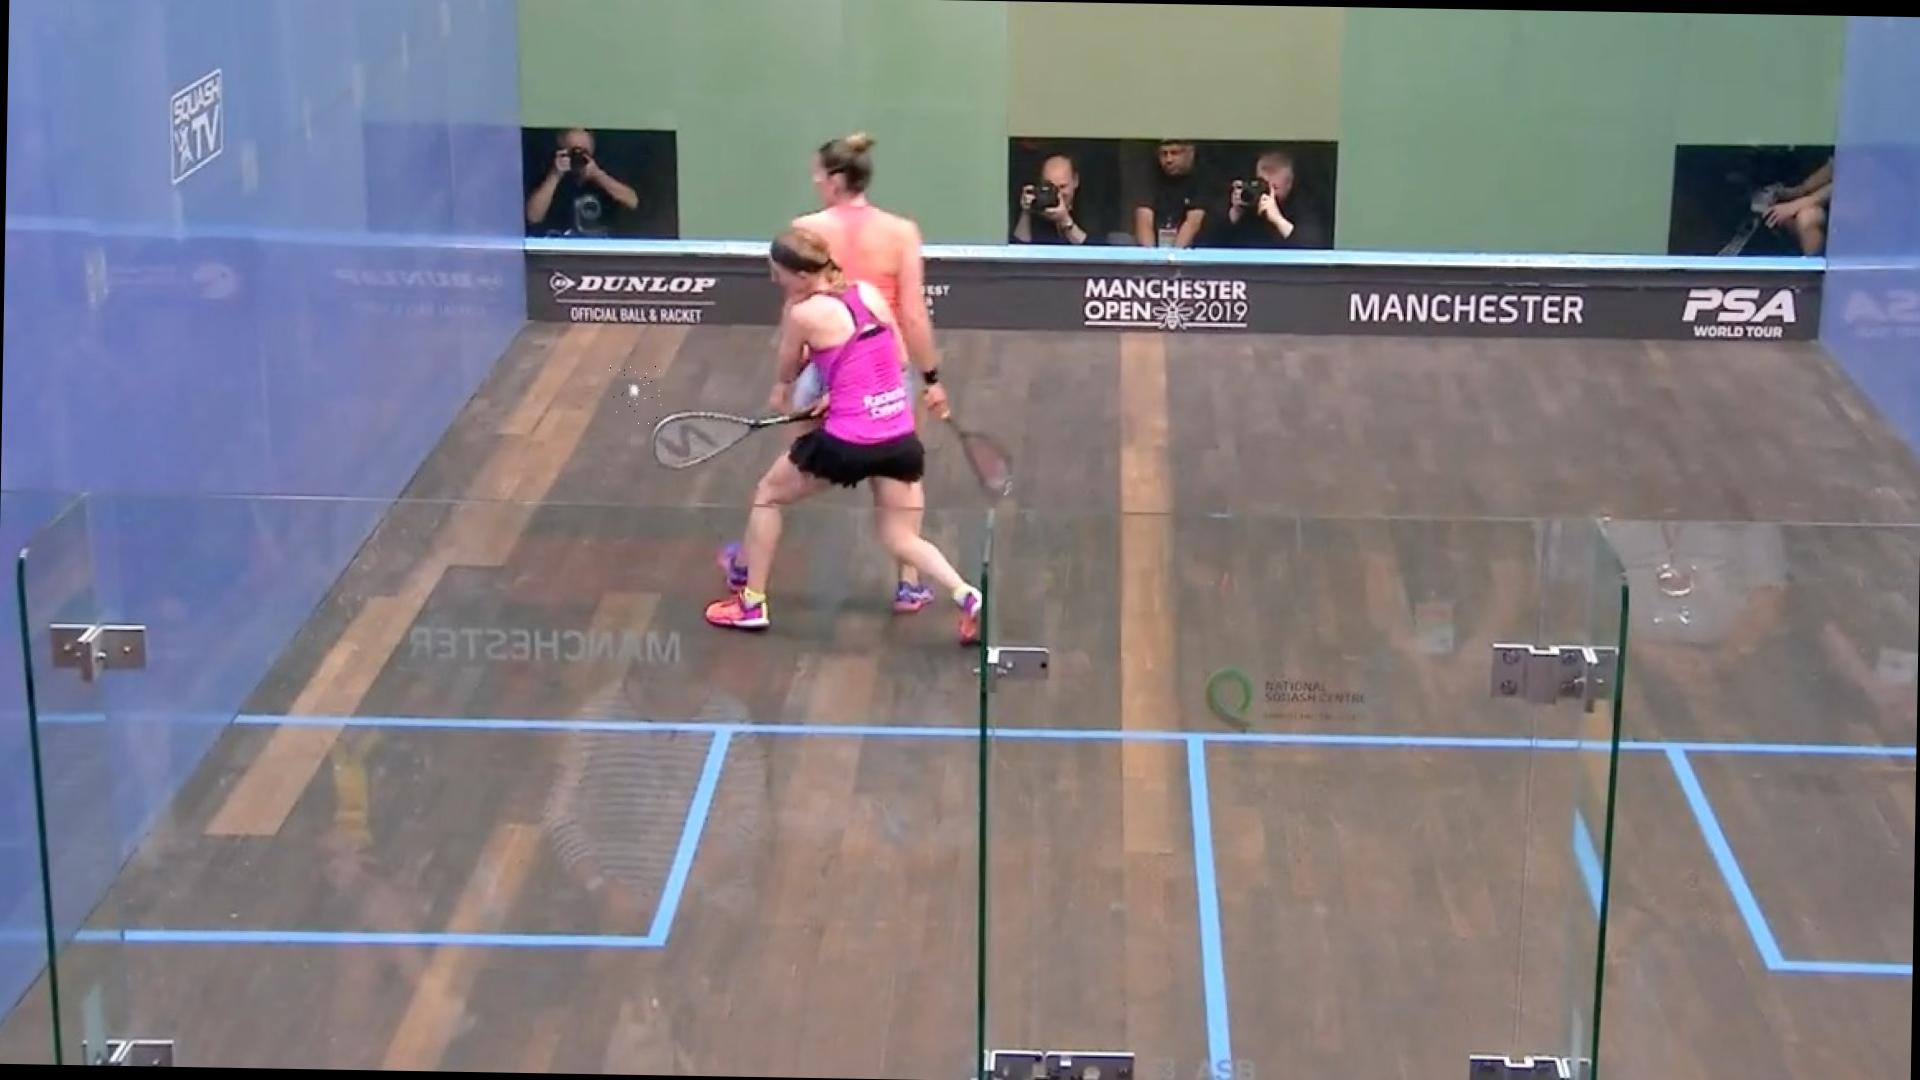Squash-Ball: (608, 364, 663, 425)
